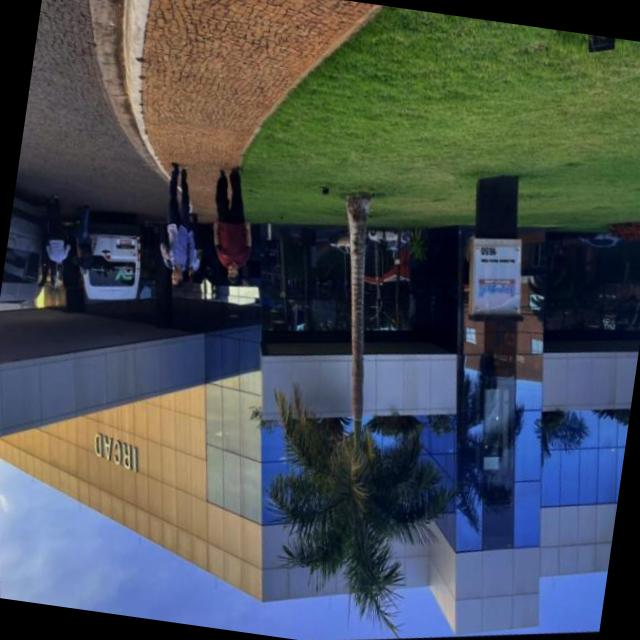person: (134, 140, 223, 304), (189, 146, 280, 296), (22, 184, 82, 288), (57, 185, 112, 288)
